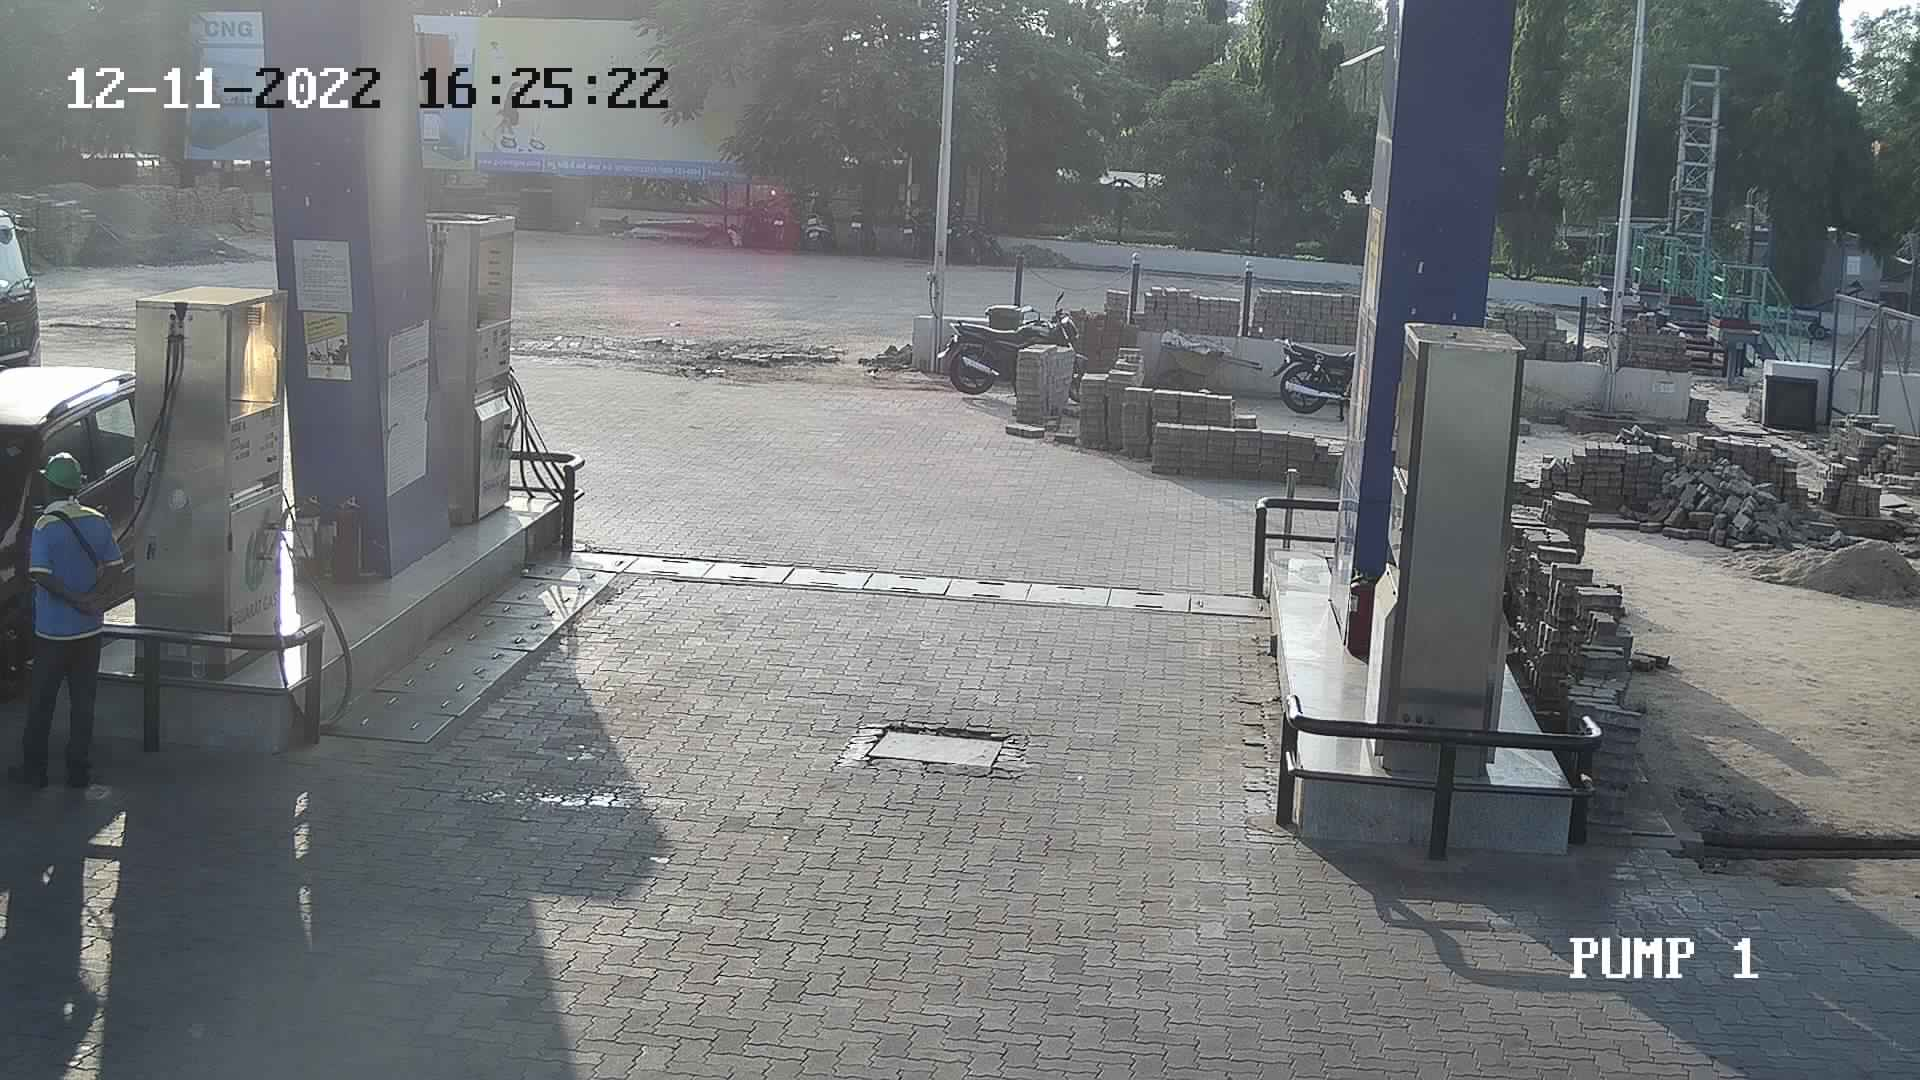Bike: (926, 286, 1098, 425), (1262, 332, 1361, 427), (945, 200, 1006, 274), (736, 175, 785, 248), (799, 182, 844, 253), (765, 186, 810, 252), (886, 196, 926, 260), (841, 191, 881, 253)
Car: (1, 353, 142, 688)
HMV: (0, 171, 50, 392)
Others: (18, 448, 128, 794)
